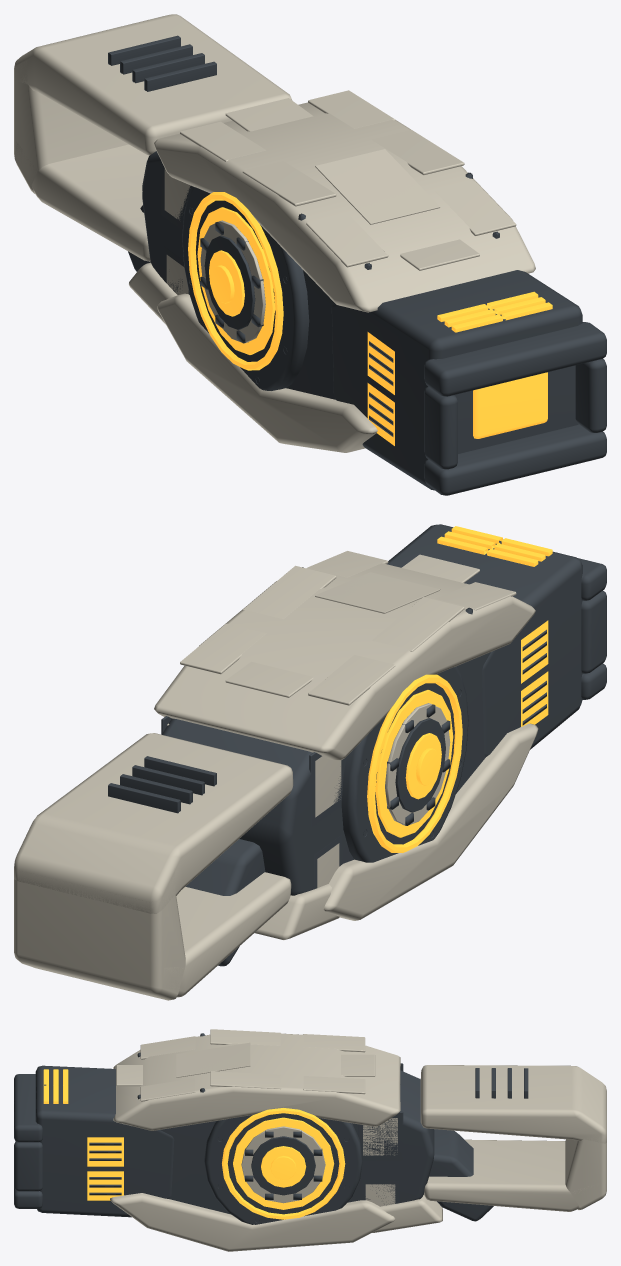
File: WP_Spinfusor_HP.fbx
The picture shows the model from 3 angles, top to bottom: view 1: azimuth 30°, elevation 25°; view 2: azimuth 150°, elevation 25°; view 3: azimuth 270°, elevation 25°; orthographic projection. The views are drawn at different scales.
Visible parts, largest first — view 1: WP_RearBrace, WP_UpperArmor, WP_Muzzle, WP_MuzzleAttachment, WP_Detail_Panels, WP_LowerArmor, WP_Detail_EnergyCore, WP_Detail_Engraving, WP_MainBody, WP_DiscChamber, WP_Barrel, WP_Detail_Fins (+5 smaller); view 2: WP_RearBrace, WP_UpperArmor, WP_Detail_Panels, WP_Muzzle, WP_MainBody, WP_LowerArmor, WP_Detail_EnergyCore, WP_Detail_Engraving, WP_DiscChamber, WP_Detail_Fins, WP_EnergyRing, WP_MuzzleAttachment (+5 smaller); view 3: WP_RearBrace, WP_UpperArmor, WP_Muzzle, WP_LowerArmor, WP_Detail_EnergyCore, WP_MainBody, WP_Detail_Panels, WP_DiscChamber, WP_MuzzleAttachment, WP_Detail_Hatches, WP_Detail_Engraving, WP_Grip (+5 smaller).
Boxes of the visible parts, x1=… form: WP_RearBrace: x1=14, y1=14, x2=292, y2=261; WP_UpperArmor: x1=154, y1=102, x2=535, y2=312; WP_Muzzle: x1=331, y1=270, x2=582, y2=490; WP_MuzzleAttachment: x1=424, y1=322, x2=606, y2=495; WP_Detail_Panels: x1=180, y1=90, x2=516, y2=270; WP_LowerArmor: x1=157, y1=293, x2=377, y2=452; WP_Detail_EnergyCore: x1=196, y1=200, x2=275, y2=361; WP_Detail_Engraving: x1=315, y1=149, x2=552, y2=332; WP_MainBody: x1=142, y1=151, x2=335, y2=399; WP_DiscChamber: x1=182, y1=186, x2=309, y2=390; WP_Barrel: x1=473, y1=372, x2=547, y2=438; WP_Detail_Fins: x1=108, y1=35, x2=216, y2=91; WP_RearBrace: x1=14, y1=733, x2=293, y2=1000; WP_UpperArmor: x1=154, y1=563, x2=535, y2=760; WP_Detail_Panels: x1=180, y1=551, x2=516, y2=705; WP_Muzzle: x1=387, y1=524, x2=582, y2=756; WP_MainBody: x1=162, y1=652, x2=490, y2=895; WP_LowerArmor: x1=323, y1=723, x2=538, y2=920; WP_Detail_EnergyCore: x1=375, y1=683, x2=454, y2=844; WP_Detail_Engraving: x1=315, y1=526, x2=552, y2=613; WP_DiscChamber: x1=341, y1=666, x2=468, y2=862; WP_Detail_Fins: x1=108, y1=756, x2=216, y2=813; WP_EnergyRing: x1=367, y1=674, x2=462, y2=852; WP_MuzzleAttachment: x1=578, y1=558, x2=606, y2=699; WP_RearBrace: x1=420, y1=1065, x2=606, y2=1211; WP_UpperArmor: x1=113, y1=1033, x2=400, y2=1130; WP_Muzzle: x1=35, y1=1065, x2=174, y2=1217; WP_LowerArmor: x1=110, y1=1193, x2=395, y2=1251; WP_Detail_EnergyCore: x1=227, y1=1113, x2=339, y2=1214; WP_MainBody: x1=160, y1=1070, x2=434, y2=1214; WP_Detail_Panels: x1=116, y1=1029, x2=375, y2=1101; WP_DiscChamber: x1=204, y1=1115, x2=362, y2=1224; WP_MuzzleAttachment: x1=14, y1=1074, x2=42, y2=1208; WP_Detail_Hatches: x1=358, y1=1063, x2=403, y2=1206; WP_Detail_Engraving: x1=43, y1=1042, x2=250, y2=1103; WP_Grip: x1=429, y1=1129, x2=493, y2=1221.
Size of the model in its own units: 1.5 by 1.75 by 5.5.
